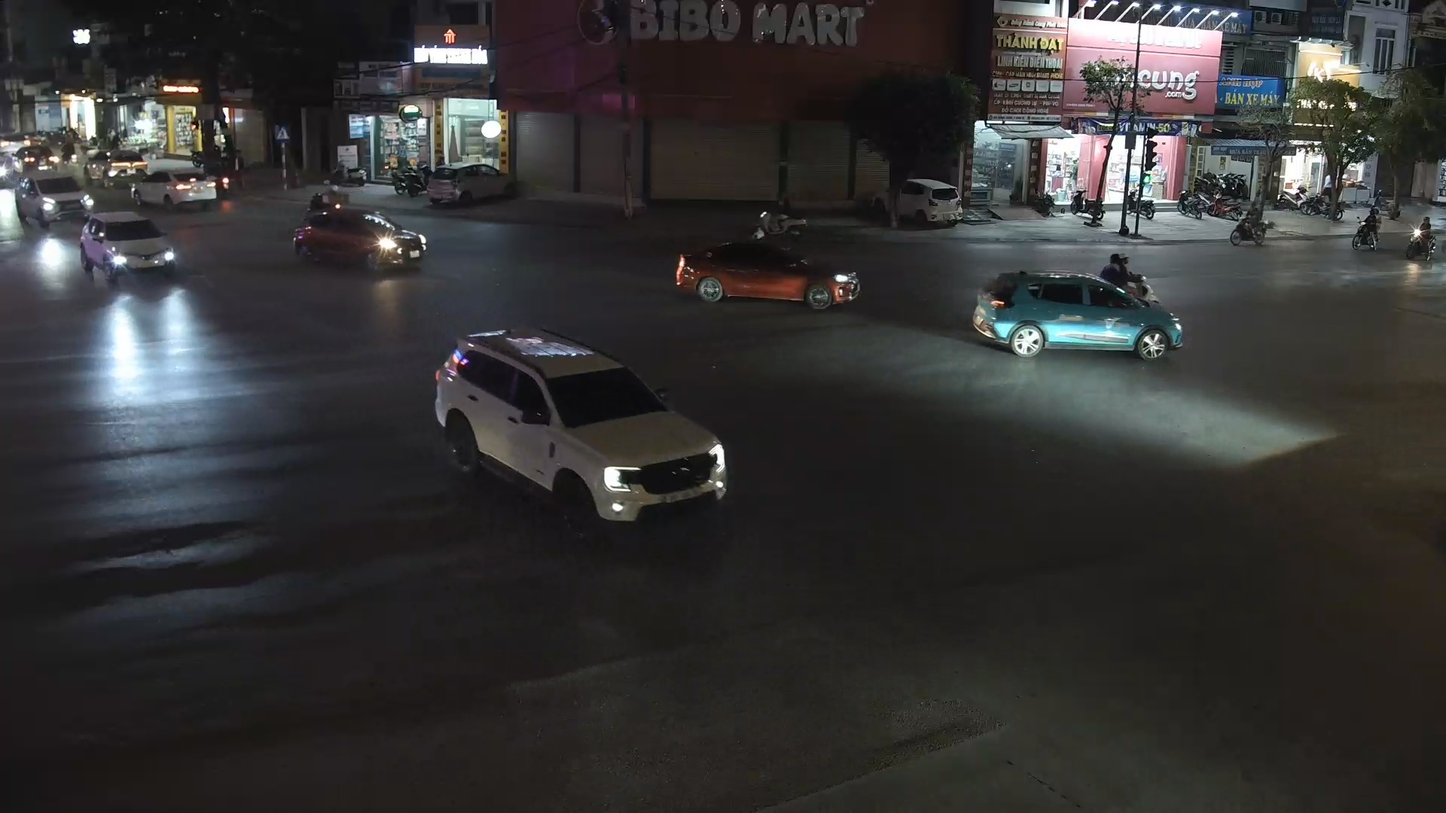car: (433, 327, 732, 529), (970, 267, 1188, 361), (675, 234, 863, 308), (290, 203, 428, 275), (79, 207, 180, 287), (15, 174, 94, 234)
motorbike: (1405, 211, 1440, 261)
